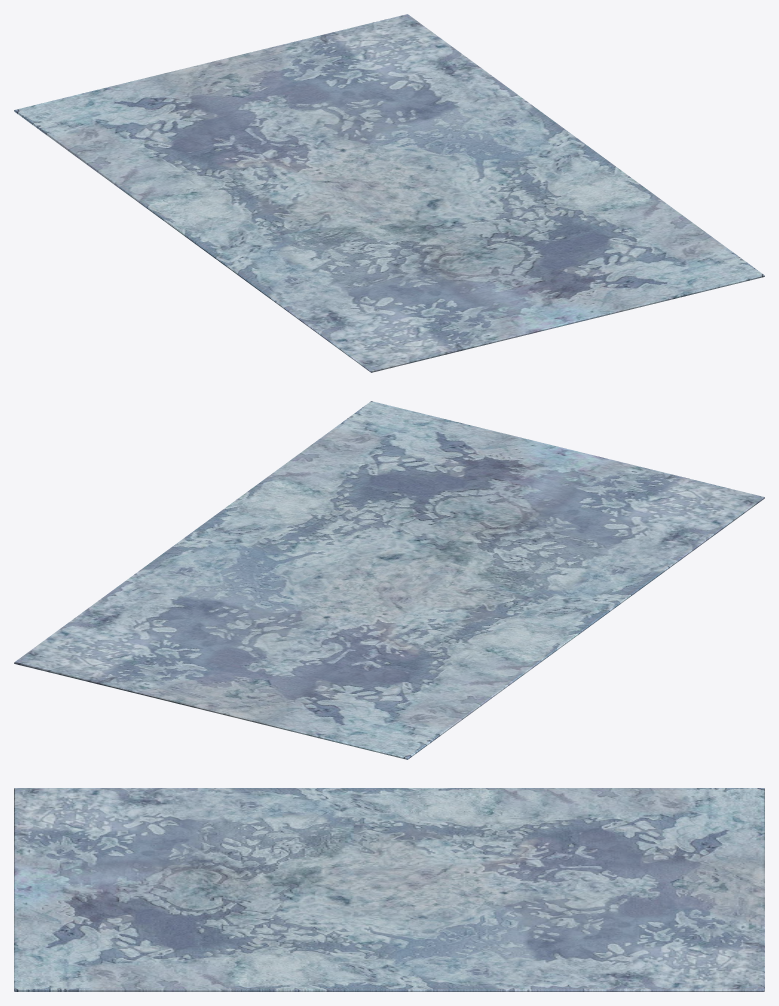
The model's file is LR_Carpet.fbx.
The picture shows the model from 3 angles, top to bottom: view 1: azimuth 30°, elevation 25°; view 2: azimuth 150°, elevation 25°; view 3: azimuth 270°, elevation 25°; orthographic projection. The views are drawn at different scales.
Visible parts, largest first — view 1: pCube1; view 2: pCube1; view 3: pCube1.
Part boxes in pixels (left/top/right/bottom): pCube1: left=14, top=14, right=764, bottom=372; pCube1: left=14, top=401, right=764, bottom=759; pCube1: left=14, top=788, right=764, bottom=991.
Size of the model in its own units: 2.1 by 0.0112 by 3.3.
